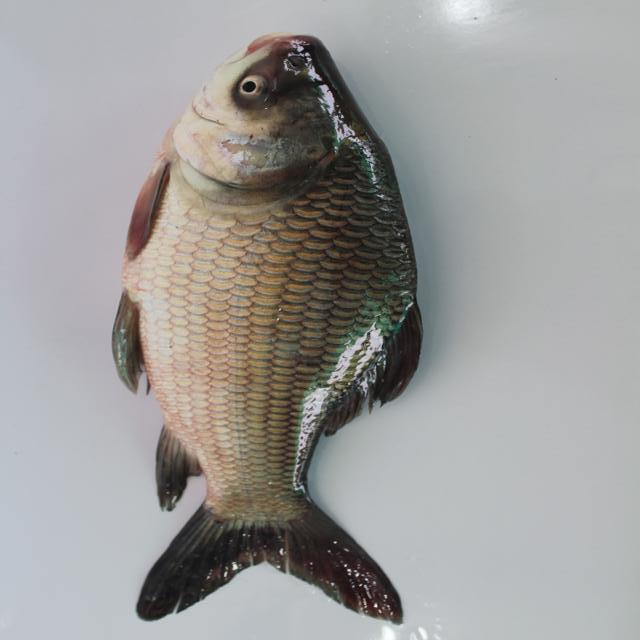Catla: (97, 25, 473, 635)
